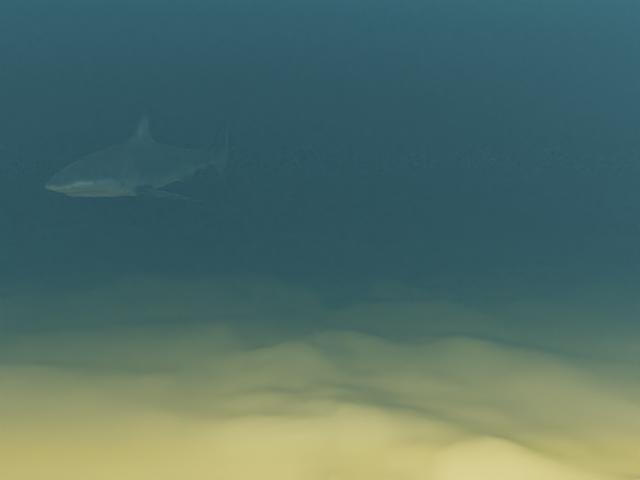Carribean Shark.001: (44, 109, 234, 201)
